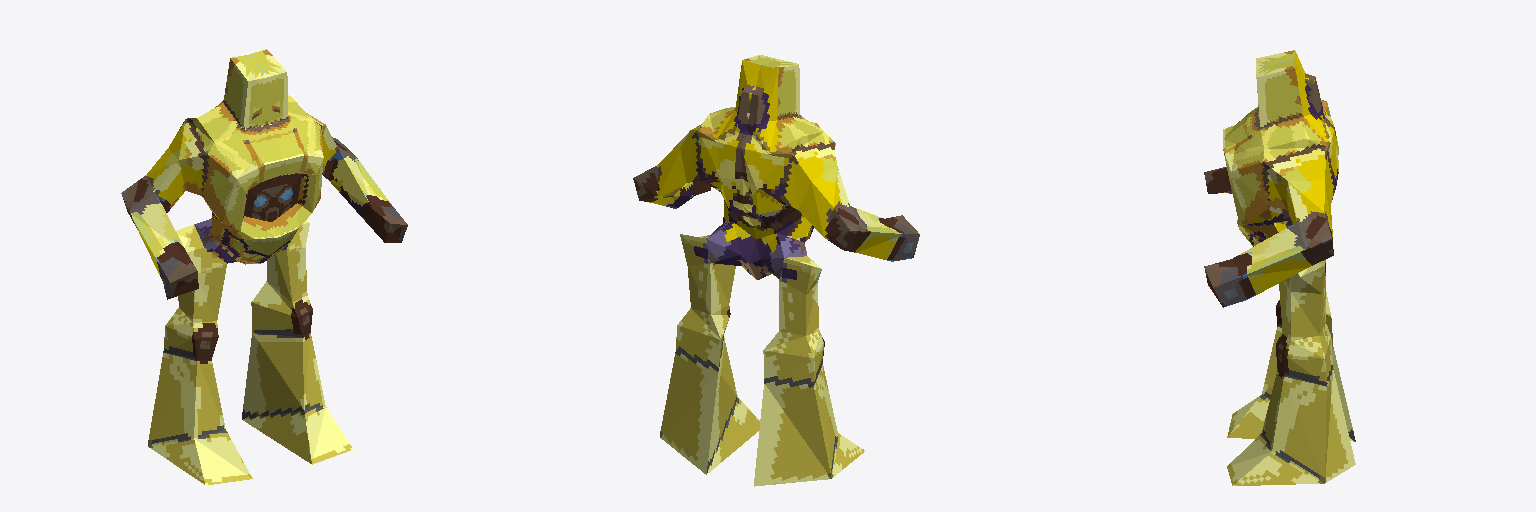
3 views of the same model, side by side, from view 1: azimuth 30°, elevation 25°; view 2: azimuth 150°, elevation 25°; view 3: azimuth 270°, elevation 25° (orthographic).
Visible parts, largest first — view 1: Plane.003; view 2: Plane.003; view 3: Plane.003.
Part boxes in pixels (x1,y1,x2,y2): Plane.003: (121,49,407,485); Plane.003: (633,55,919,486); Plane.003: (1204,50,1355,485).
Bounding box in the file's own units: 1.88 × 2.98 × 1.04.
1 materials, 1 textured.